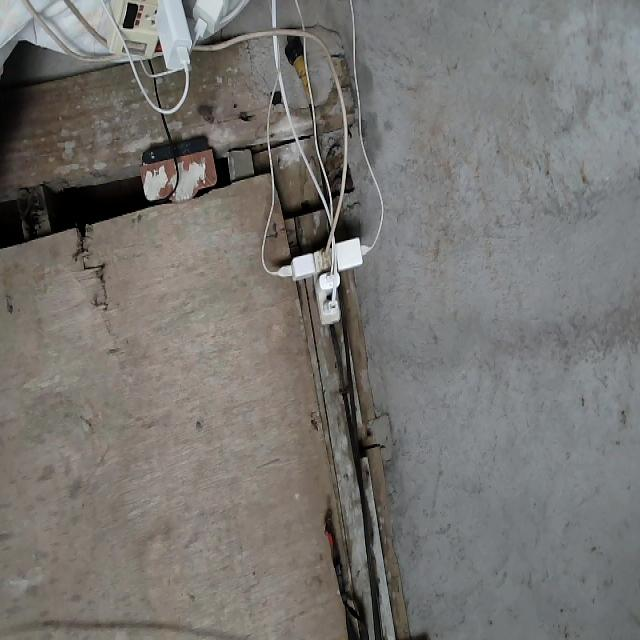-: (276, 236, 369, 328)
